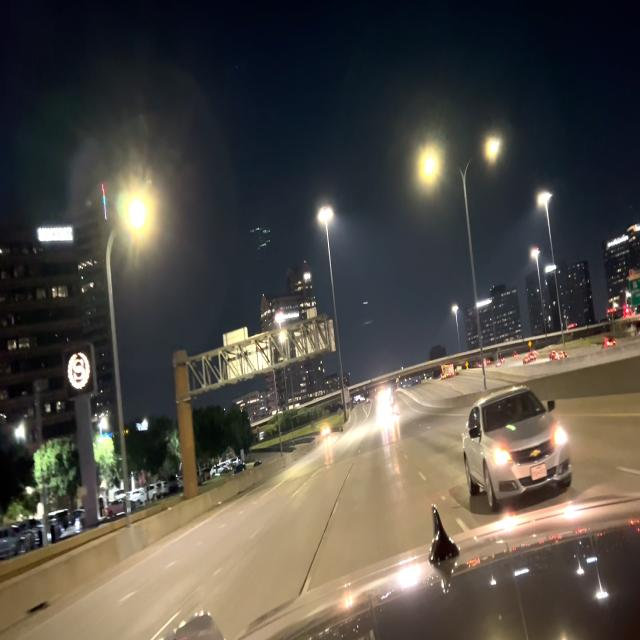back-of-sign: (222, 327, 274, 381), (296, 308, 338, 360)
